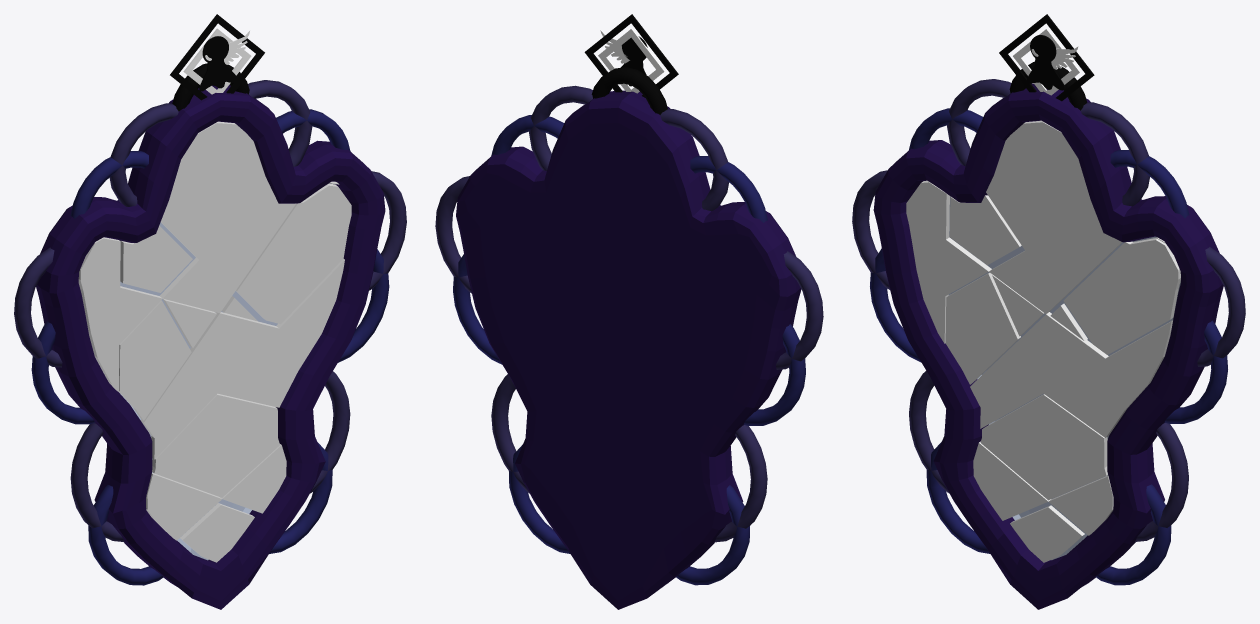
Rendered from Shadow_Mirror.fbx.
3 renders of one model, left to right at view 1: azimuth 30°, elevation 25°; view 2: azimuth 150°, elevation 25°; view 3: azimuth 330°, elevation 25°, orthographic.
Parts seen in each view (by area): view 1: Mirror, Plane.006, Plane.020, Plane.004, Plane.017, Plane.005, Plane.010, Plane.019, Plane.024, Plane.011, Plane.003, Plane.023 (+10 smaller); view 2: Mirror; view 3: Mirror, Plane.006, Plane.020, Plane.004, Plane.017, Plane.005, Plane.010, Plane.019, Plane.024, Plane.011, Plane.003, Plane.023 (+10 smaller).
Part boxes in pixels (left/top/right/bottom): Mirror: left=14, top=14, right=406, bottom=609; Plane.006: left=236, top=183, right=351, bottom=324; Plane.020: left=152, top=393, right=279, bottom=497; Plane.004: left=160, top=166, right=269, bottom=259; Plane.017: left=119, top=300, right=191, bottom=420; Plane.005: left=200, top=186, right=295, bottom=293; Plane.010: left=190, top=312, right=273, bottom=393; Plane.019: left=140, top=349, right=217, bottom=459; Plane.024: left=218, top=334, right=302, bottom=407; Plane.011: left=120, top=225, right=192, bottom=292; Plane.003: left=179, top=121, right=265, bottom=175; Plane.023: left=146, top=472, right=221, bottom=540; Mirror: left=435, top=14, right=823, bottom=609; Mirror: left=852, top=14, right=1245, bottom=609; Plane.006: left=1063, top=238, right=1180, bottom=354; Plane.020: left=980, top=394, right=1107, bottom=500; Plane.004: left=986, top=146, right=1094, bottom=250; Plane.017: left=945, top=272, right=1020, bottom=384; Plane.005: left=1025, top=211, right=1122, bottom=301; Plane.010: left=1019, top=312, right=1099, bottom=393; Plane.019: left=970, top=340, right=1043, bottom=428; Plane.024: left=1044, top=362, right=1130, bottom=437; Plane.011: left=949, top=195, right=1021, bottom=264; Plane.003: left=1004, top=120, right=1089, bottom=197; Plane.023: left=973, top=441, right=1051, bottom=520.
Bounding box in the file's own units: 1640 × 2382 × 161.
